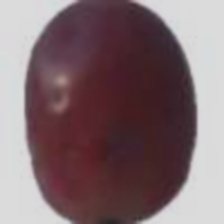grapes: (35, 10, 199, 187)
